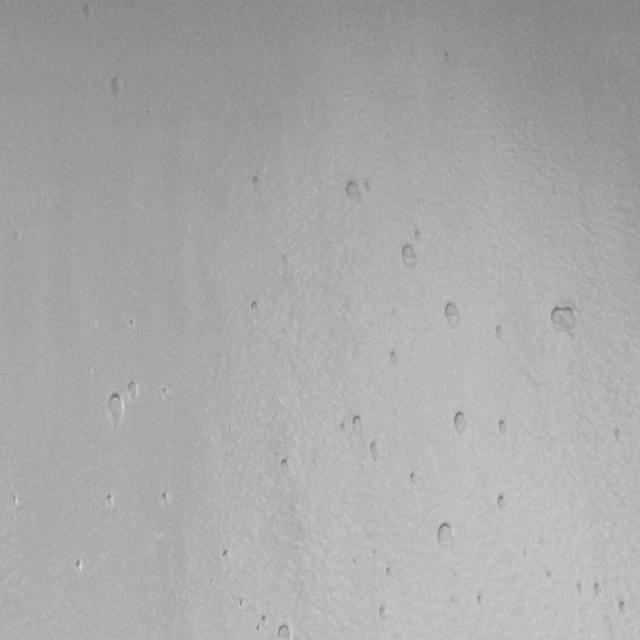pin holes: (548, 302, 586, 341), (440, 299, 464, 330), (433, 521, 457, 551), (342, 176, 366, 205), (105, 391, 126, 424), (396, 241, 419, 271), (106, 73, 126, 103), (76, 0, 98, 26), (451, 410, 472, 437), (366, 439, 385, 463), (246, 172, 264, 196), (7, 488, 24, 512), (610, 425, 628, 447), (126, 378, 142, 402), (494, 323, 510, 345), (273, 623, 293, 640), (590, 580, 606, 600), (376, 603, 392, 622), (616, 600, 631, 620), (247, 298, 262, 317), (497, 417, 512, 436), (159, 490, 173, 510), (496, 494, 510, 514), (574, 579, 588, 599), (388, 348, 403, 366), (278, 457, 292, 476), (407, 470, 421, 487), (103, 493, 116, 511), (350, 413, 363, 431), (336, 418, 349, 436), (475, 590, 488, 607), (412, 228, 425, 244), (259, 614, 271, 631), (544, 568, 556, 585), (220, 548, 232, 564), (72, 558, 84, 574), (160, 386, 172, 402), (383, 566, 394, 581), (126, 316, 137, 331), (236, 596, 247, 609), (13, 231, 23, 245)
